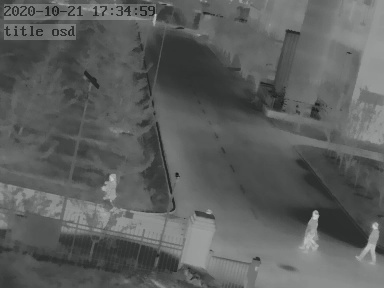person: (98, 171, 117, 216), (362, 218, 380, 260), (303, 209, 318, 252), (151, 12, 158, 27)
